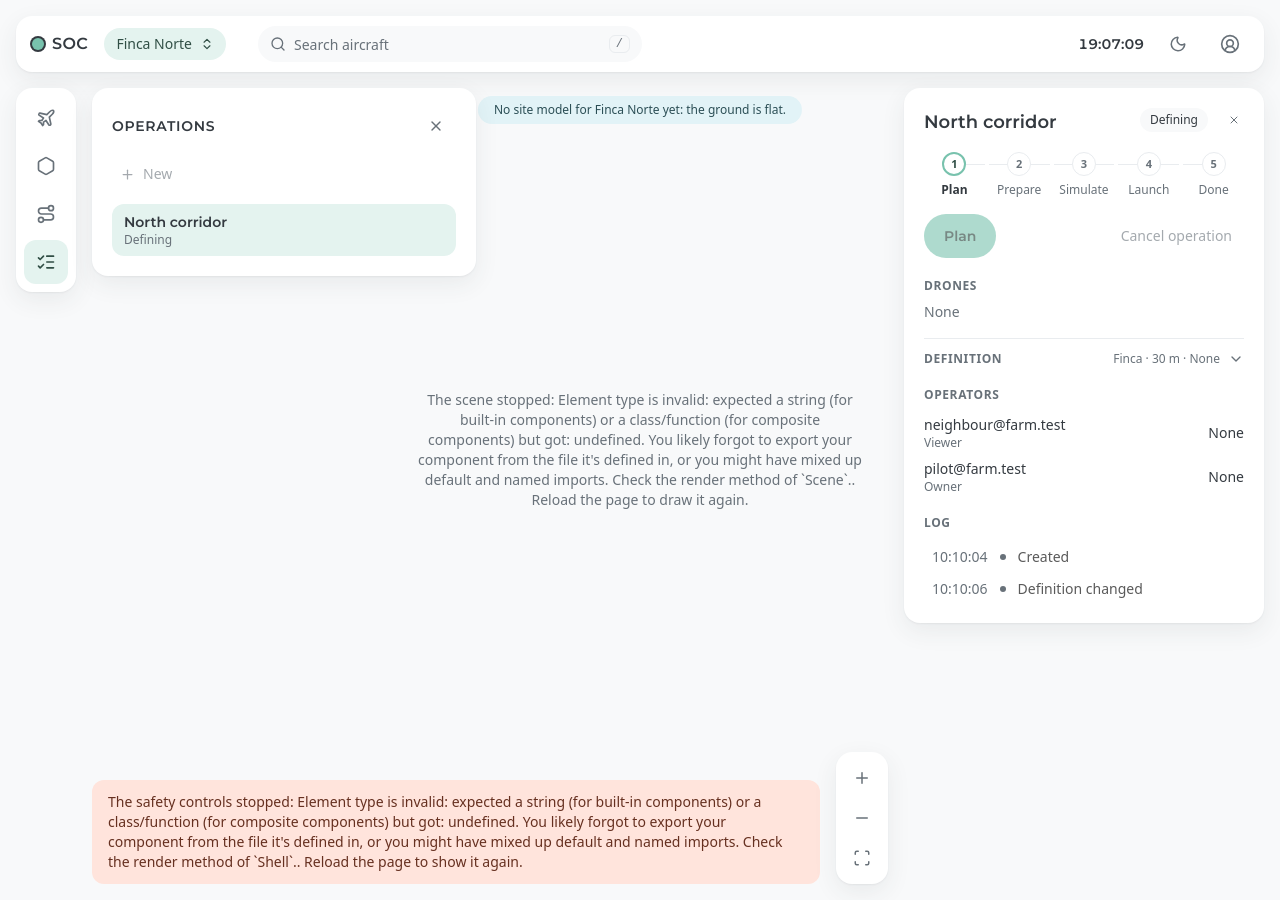
Test: an operation in the inspector (FR-OPS-01, FR-OPS-07) › reads the same values, with nothing to change, for a viewer
Expected: the header is shown, [16,16,1264,72]
Expected: the heading "North corridor" is shown, [924,108,1057,136]
Click the heading "Definition Finca · 30 m · None" at {"x": 963, "y": 358}, box [924,351,1244,367]
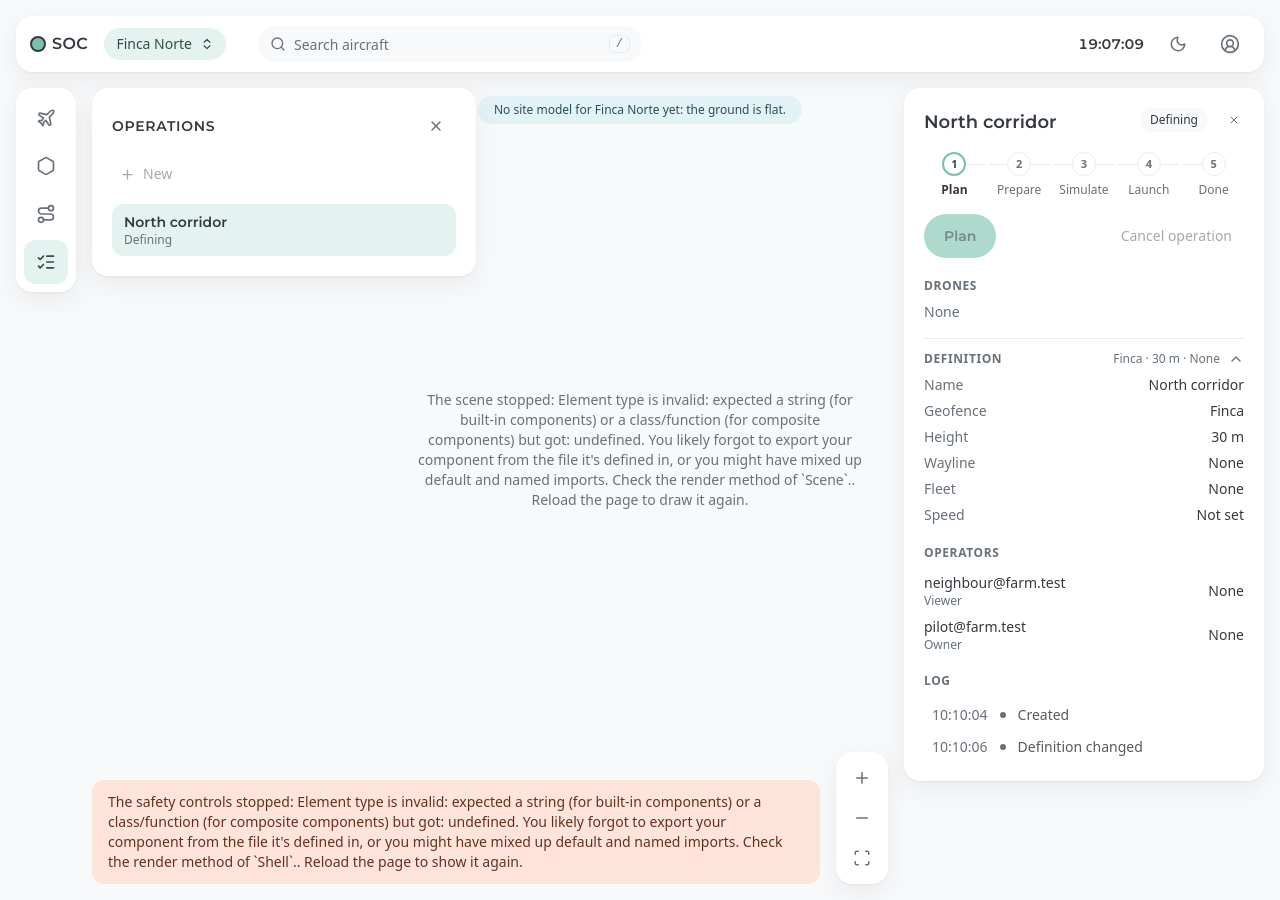
Expected: the text "Height" is shown, [924,427,968,446]
Expected: the text "30 m" is shown, [1211,427,1244,446]
